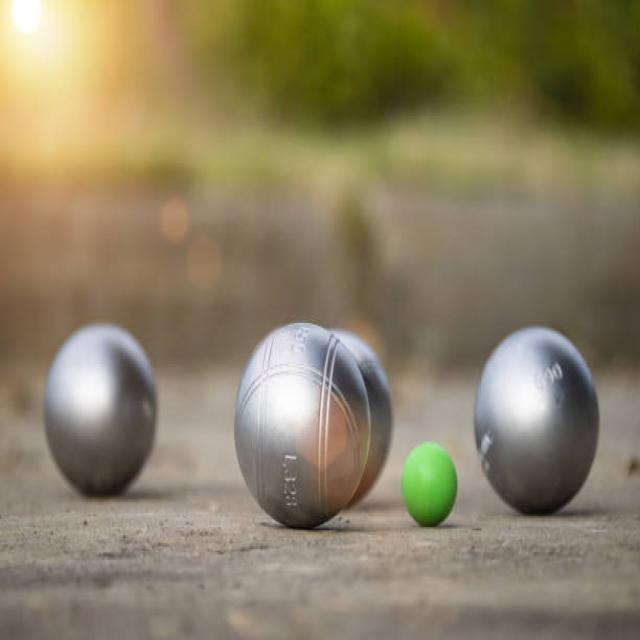petanque: (231, 320, 374, 534), (465, 317, 603, 523), (31, 322, 162, 519), (318, 326, 399, 528)
